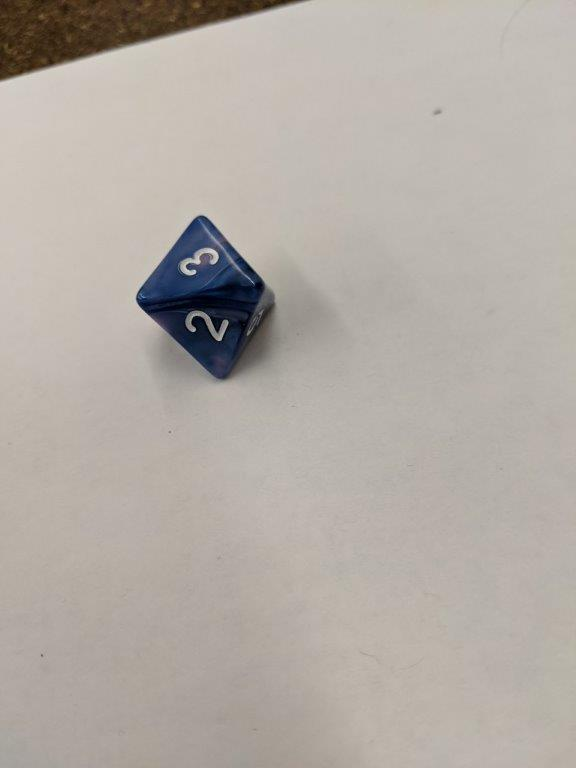d8-3: (138, 216, 275, 381)
